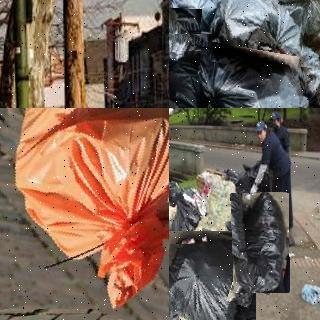Garbage: (0, 108, 169, 320), (169, 224, 262, 320), (169, 48, 303, 108), (205, 0, 305, 77), (210, 0, 307, 72), (231, 193, 290, 293), (169, 0, 208, 108), (169, 196, 202, 244), (301, 281, 320, 305)
